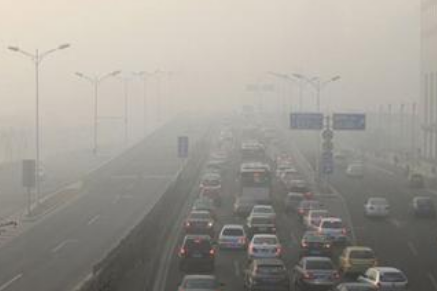bus: (233, 161, 272, 216)
car: (176, 233, 222, 271), (241, 257, 291, 291), (291, 257, 341, 290), (337, 245, 379, 279), (356, 267, 409, 290), (312, 217, 349, 248), (246, 233, 286, 261), (216, 224, 250, 251), (299, 230, 333, 257), (245, 204, 277, 232), (176, 274, 227, 291), (183, 209, 217, 233), (198, 173, 223, 205), (363, 196, 391, 220), (302, 209, 332, 230), (283, 191, 310, 214), (231, 196, 259, 218), (294, 200, 322, 221), (410, 195, 435, 217), (191, 197, 218, 217), (201, 161, 224, 180), (284, 179, 309, 196), (274, 164, 296, 182), (279, 169, 301, 185), (345, 163, 365, 179), (407, 171, 424, 188), (330, 152, 347, 168)
